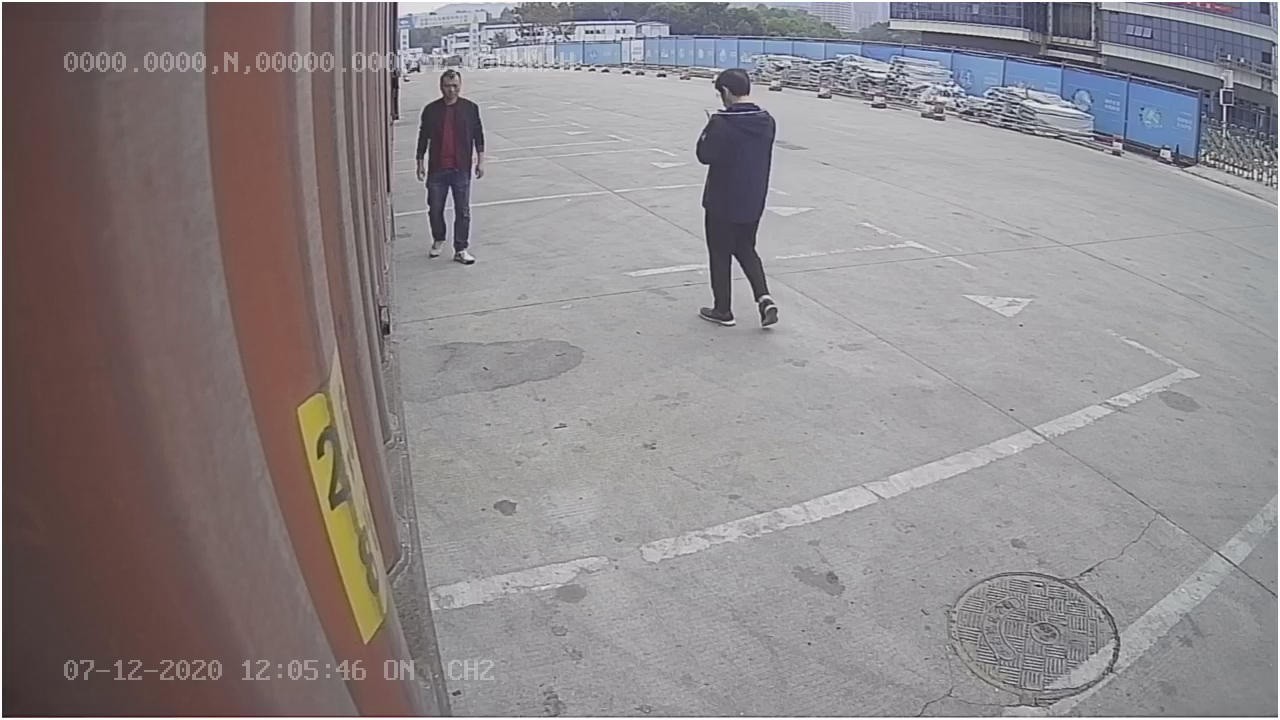person: (689, 65, 786, 333)
